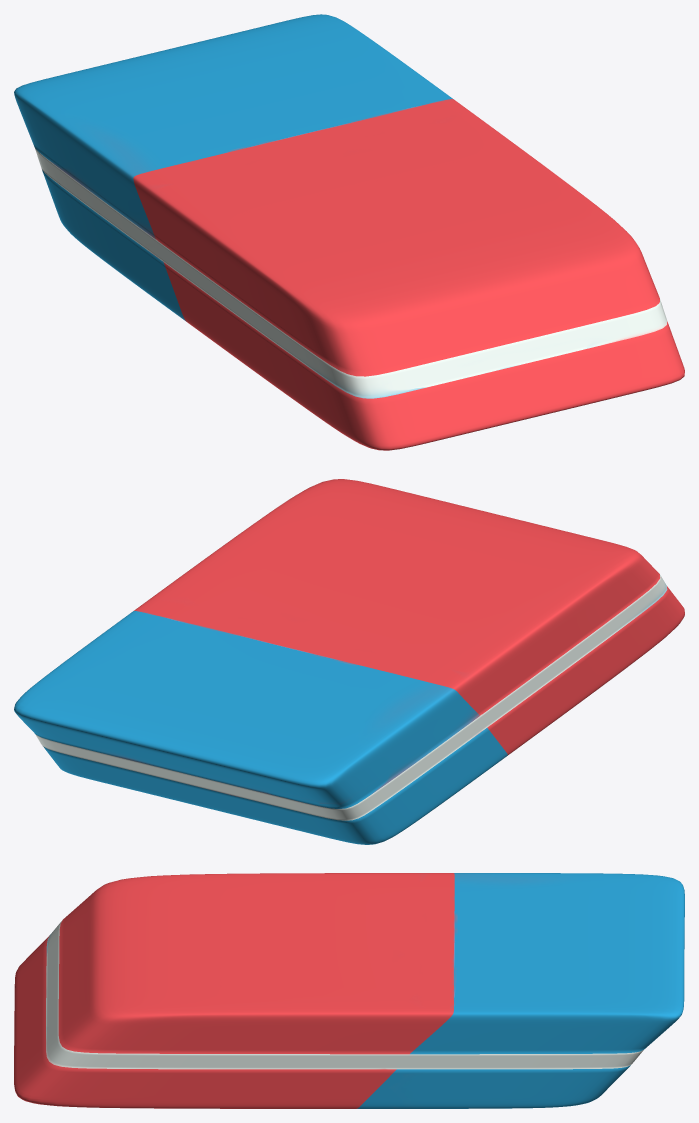
File: eraser_v2.fbx
3 renders of one model, top to bottom at view 1: azimuth 30°, elevation 25°; view 2: azimuth 150°, elevation 25°; view 3: azimuth 270°, elevation 25°, orthographic. The views are drawn at different scales.
Visible parts, largest first — view 1: Eraser_ small; view 2: Eraser_ small; view 3: Eraser_ small.
Boxes of the visible parts, x1,y1,x2,y2 form: Eraser_ small: (14,14,684,450); Eraser_ small: (14,479,684,844); Eraser_ small: (14,873,684,1108).
Size of the model in its own units: 63.94 by 20.46 by 127.
